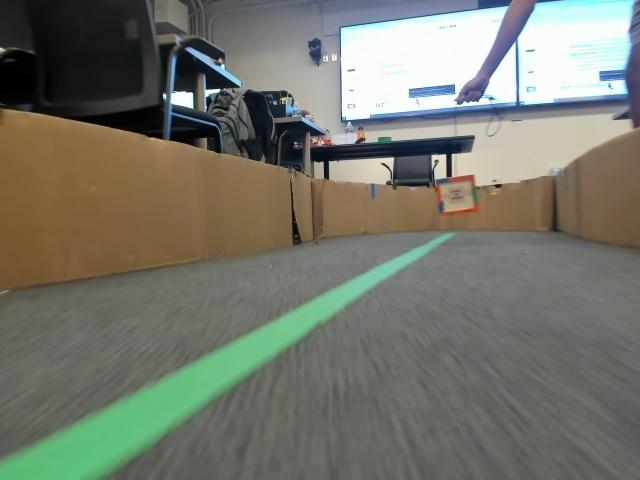Do Not Go Around: (441, 188, 468, 205)
